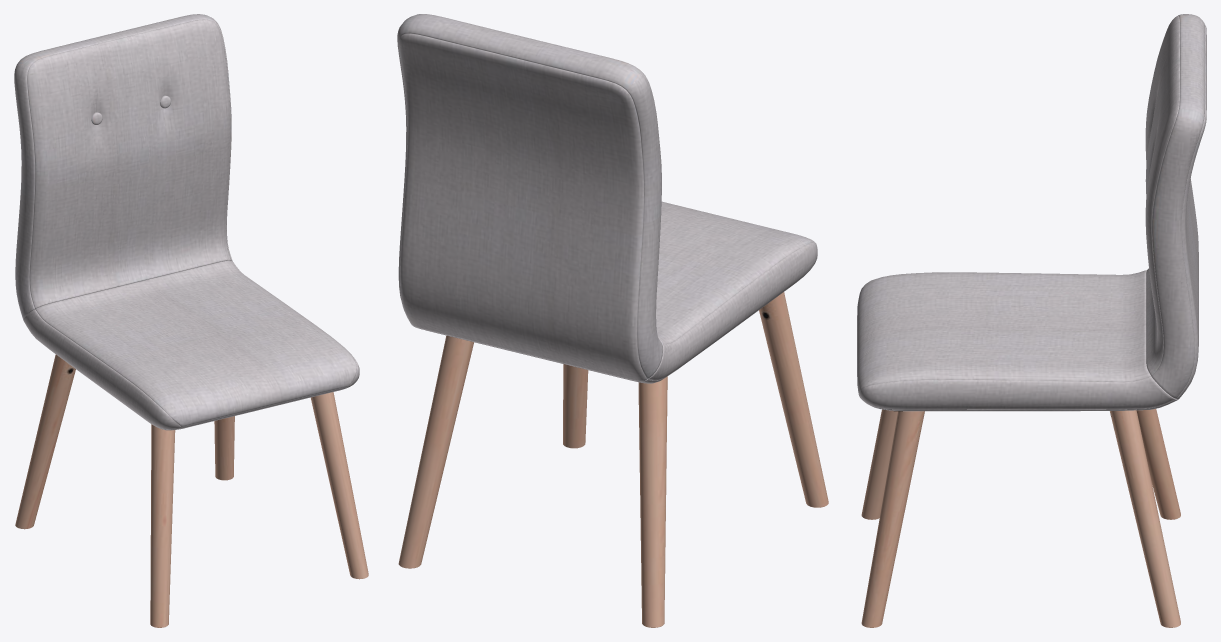
The model's file is B07JKTRSSZ.glb.
3 renders of one model, left to right at view 1: azimuth 30°, elevation 25°; view 2: azimuth 150°, elevation 25°; view 3: azimuth 270°, elevation 25°, orthographic. The views are drawn at different scales.
Parts seen in each view (by area): view 1: B07JKTRSSZ; view 2: B07JKTRSSZ; view 3: B07JKTRSSZ.
Part boxes in pixels (x1=…): B07JKTRSSZ: x1=14, y1=14, x2=368, y2=627; B07JKTRSSZ: x1=397, y1=14, x2=828, y2=627; B07JKTRSSZ: x1=857, y1=14, x2=1206, y2=627.
Bounding box in the file's own units: 0.4349 × 0.8849 × 0.5499.
Materials: 1 (1 with a texture image).
